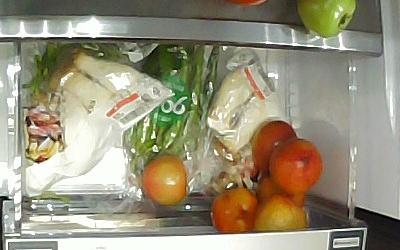prune: (267, 137, 323, 193), (251, 119, 298, 174), (141, 153, 188, 206), (209, 186, 259, 232), (252, 191, 307, 230), (256, 173, 307, 211)
